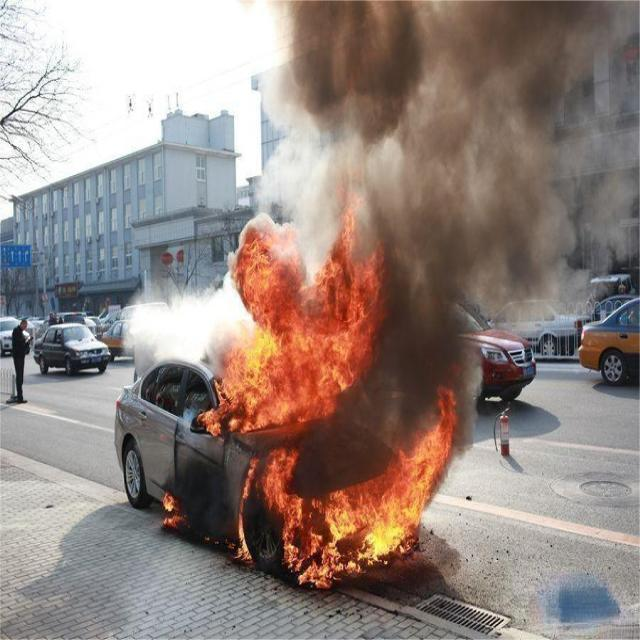Fire: (201, 219, 387, 435), (273, 383, 457, 585), (242, 449, 274, 502), (160, 494, 186, 530), (236, 510, 252, 562)
Smoke: (259, 0, 638, 219), (388, 220, 576, 380), (126, 268, 238, 360)
